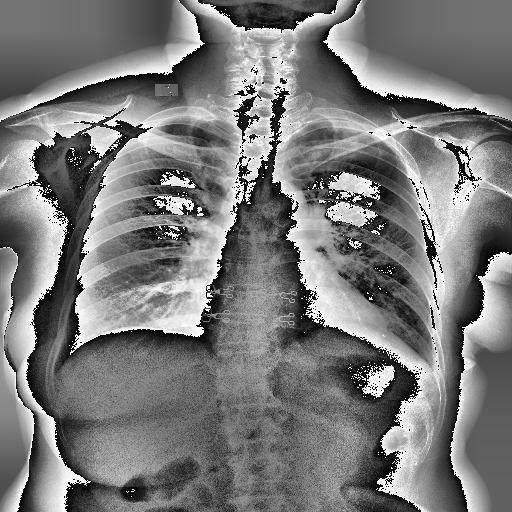0- Aortic enlargement: (254, 180, 308, 228)
13- Pulmonary fibrosis: (281, 126, 397, 202), (289, 132, 389, 178), (391, 244, 427, 266), (395, 243, 420, 260), (396, 244, 418, 260)
2- Calcification: (294, 200, 300, 215)
6- Infiltration: (281, 126, 397, 202), (289, 132, 389, 178)
7- Lung Opacity: (306, 136, 379, 172)
